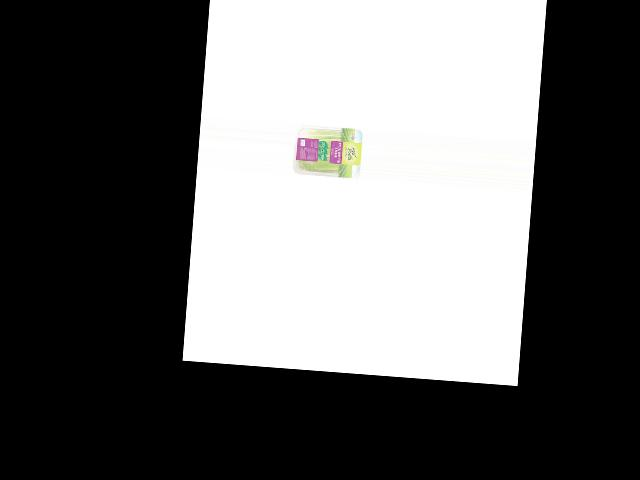lettuce: (291, 123, 358, 178)
